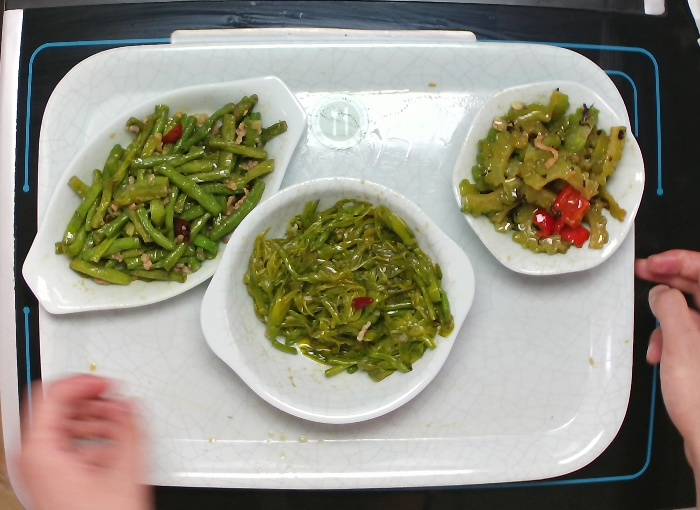JYsf-Shuang_Er_Wan: (191, 173, 481, 430)
JYsf-Yu_Pan: (21, 71, 310, 319)
WCQzf-Hua_Duo_Wan: (437, 77, 651, 290)
